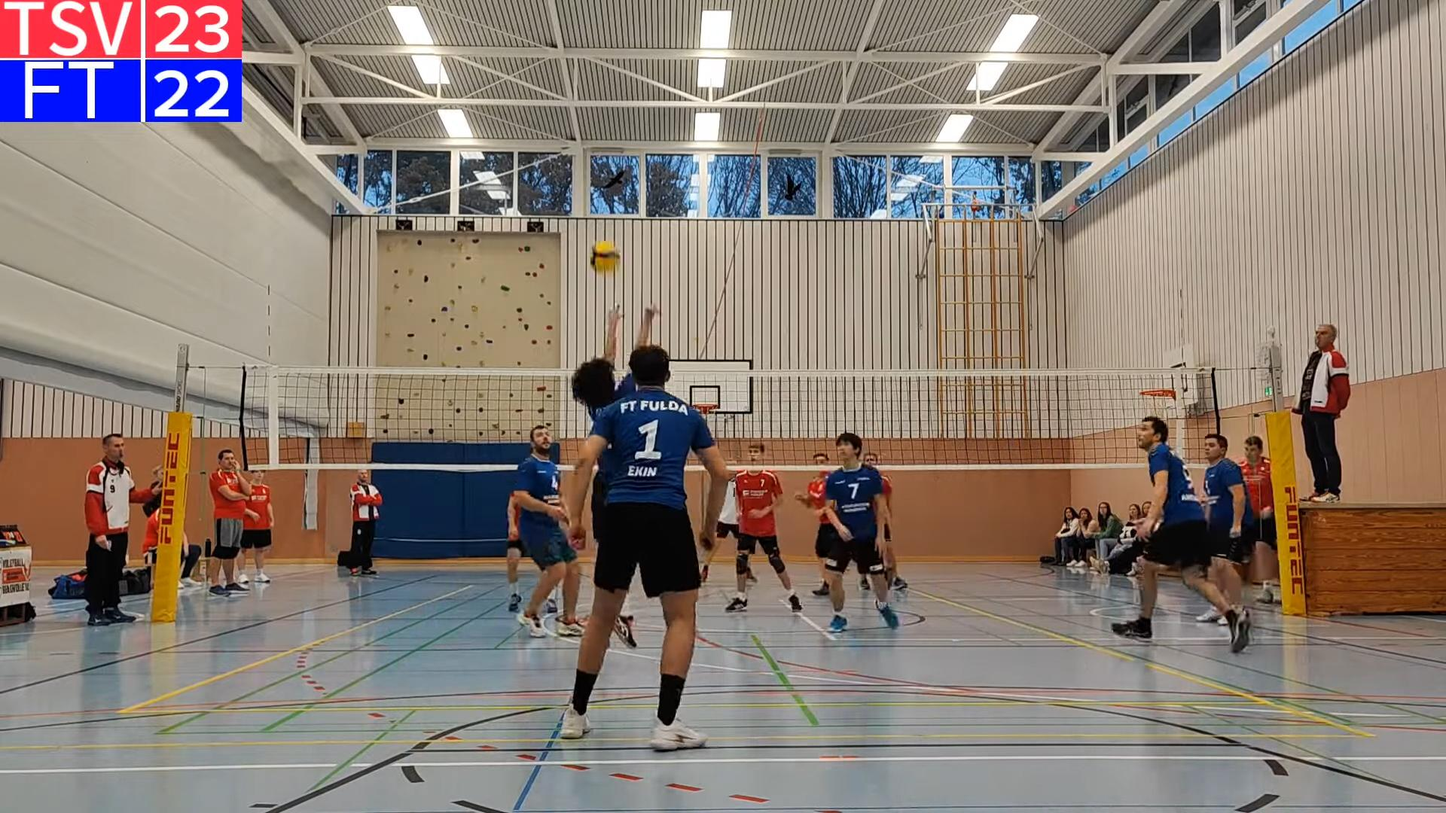difesa: (570, 293, 657, 405)
